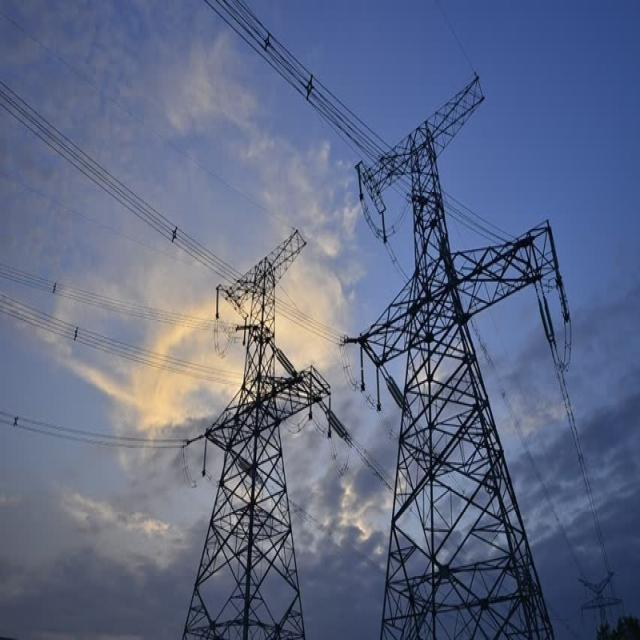non-critical vegetation: (351, 99, 563, 622), (188, 237, 325, 626)
